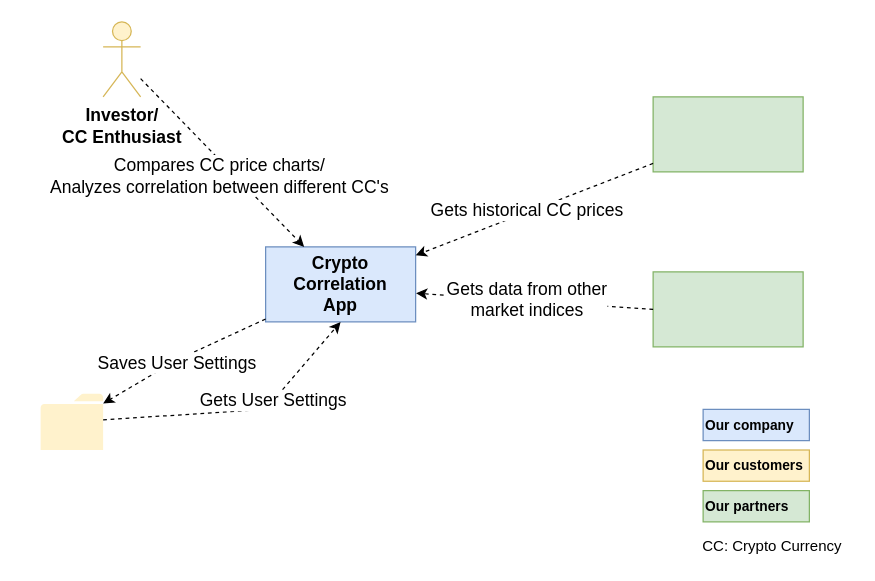
Image size: 875x581. Some labels were removed from this diagram. The centre of each missing label's shape, as x and y in pixels:
DB Market Index: pixel 727 309
REST API Crypto Price Information: pixel 727 134
Settings Folder: pixel 71 421
